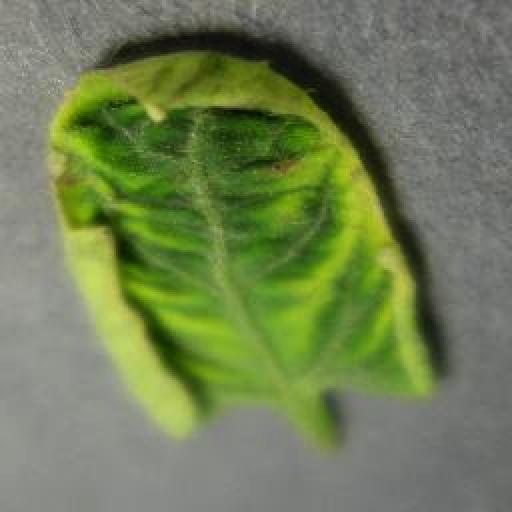disease_tomato: (46, 49, 438, 439)
